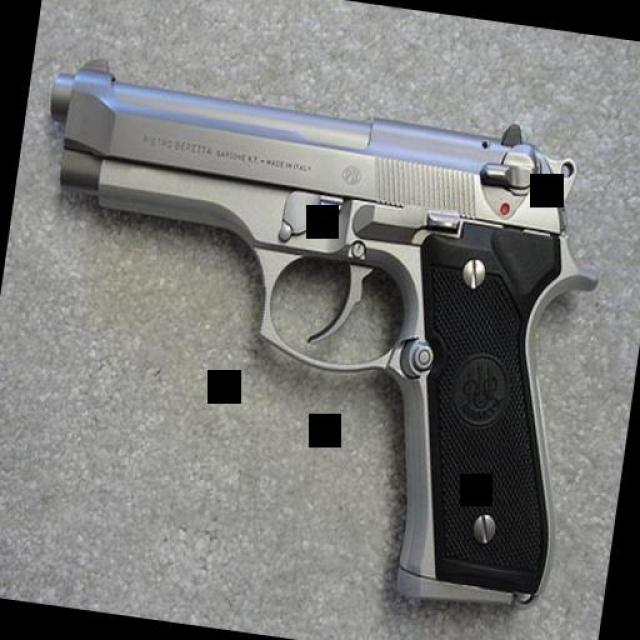gun: (0, 46, 620, 620)
